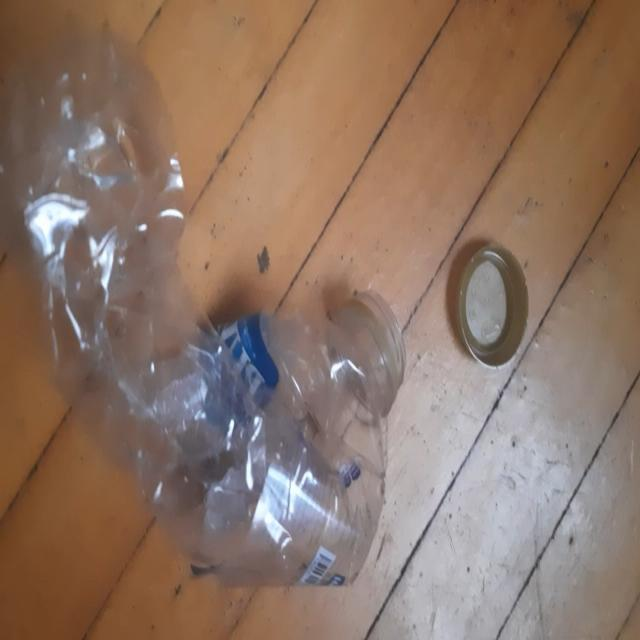Plastic: (10, 25, 394, 587)
